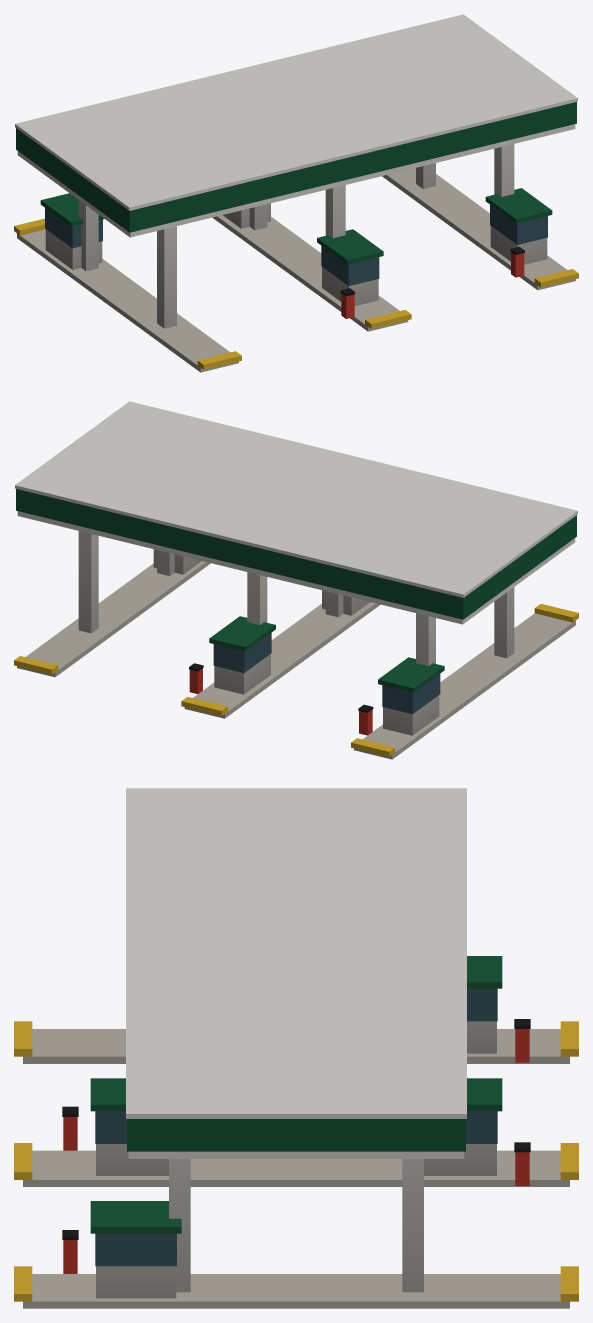
The model's file is ub_toll_lod1.glb.
The picture shows the model from 3 angles, top to bottom: view 1: azimuth 30°, elevation 25°; view 2: azimuth 150°, elevation 25°; view 3: azimuth 270°, elevation 25°; orthographic projection. The views are drawn at different scales.
Visible parts, largest first — view 1: ub_toll_lod1; view 2: ub_toll_lod1; view 3: ub_toll_lod1.
Boxes of the visible parts, x1=… form: ub_toll_lod1: x1=14, y1=14, x2=578, y2=372; ub_toll_lod1: x1=14, y1=401, x2=578, y2=759; ub_toll_lod1: x1=14, y1=788, x2=578, y2=1308.
Bounding box in the file's own units: 21.16 × 6.7 × 15.5.
